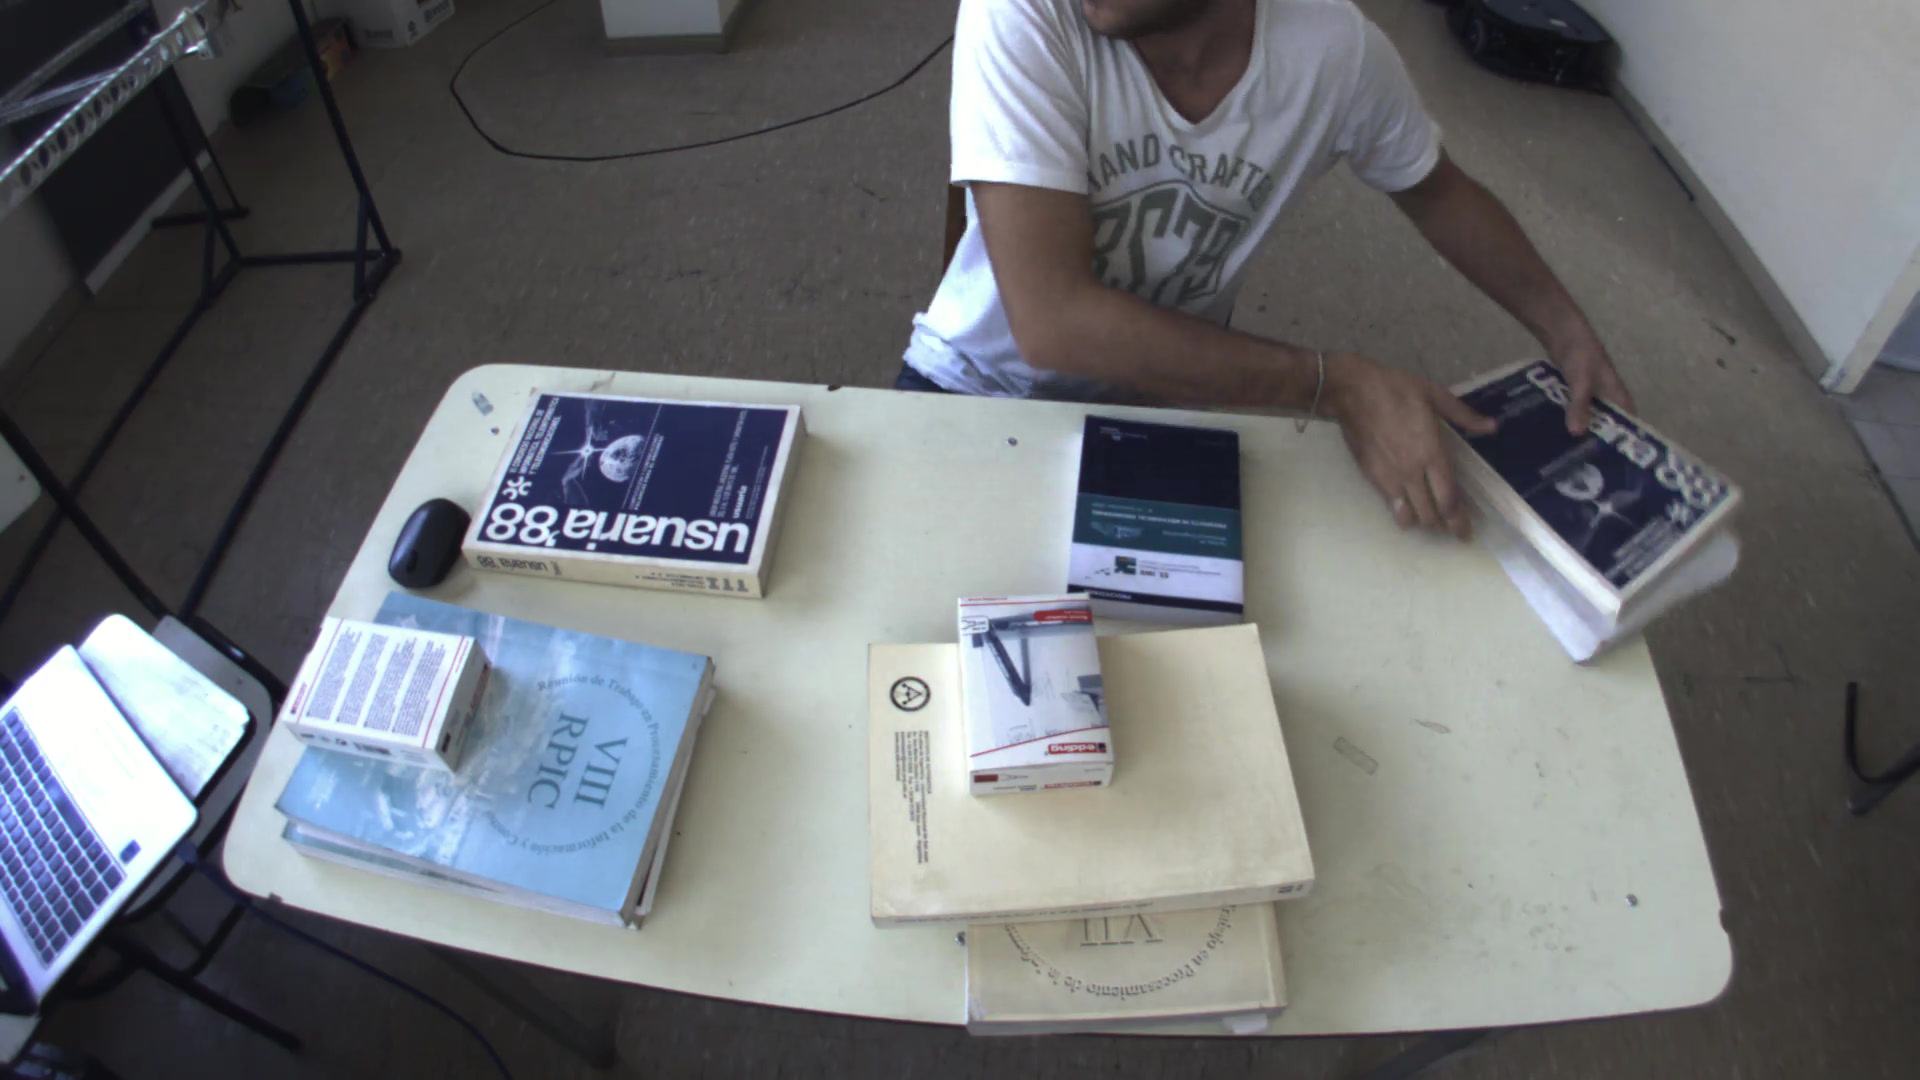hand: (1335, 360, 1520, 541), (1528, 318, 1643, 439)
